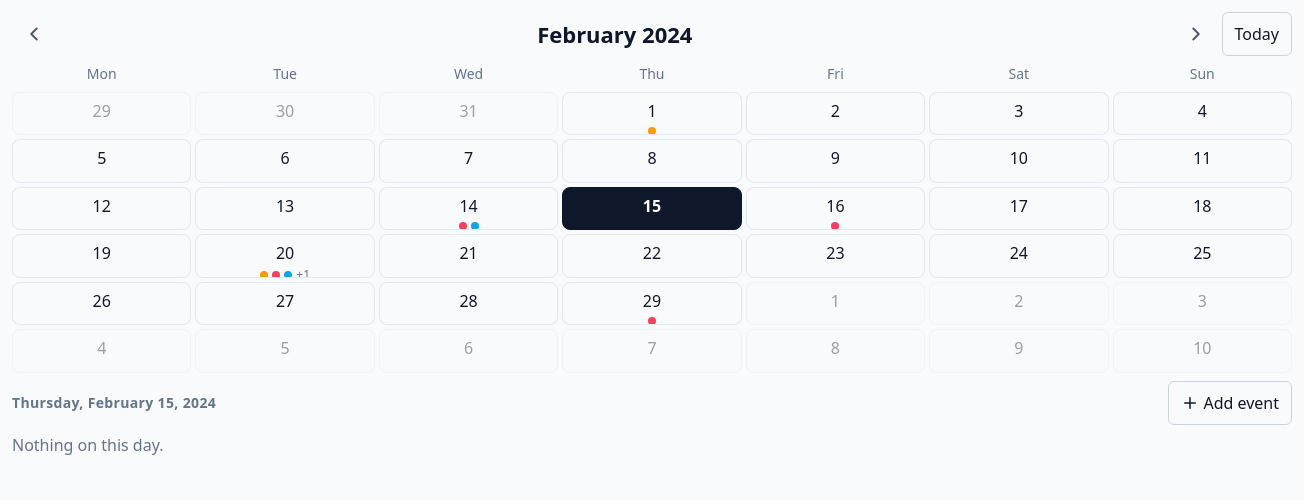
Test: Calendar — items land on the right days › links an important date on a non-person entity to /entity/:id
Check: the heading "February 2024" is shown, box left=537, top=19, right=692, bottom=49
Click the button "16". click: coordinates (835, 209)
box: left=746, top=187, right=925, bottom=230
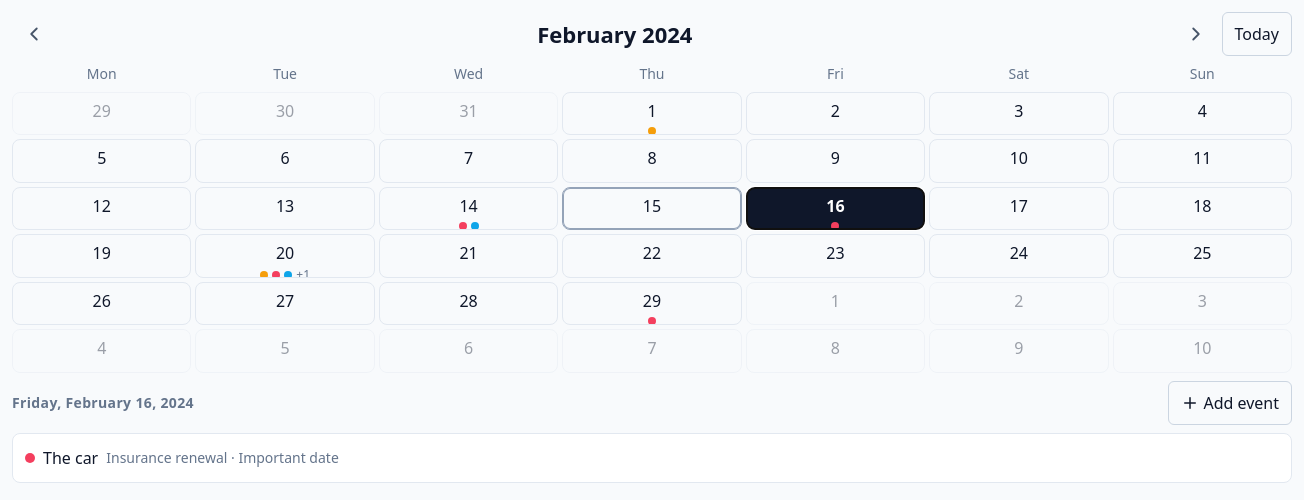
Check: the text "Insurance renewal · Important date" is shown, box left=106, top=448, right=339, bottom=468
